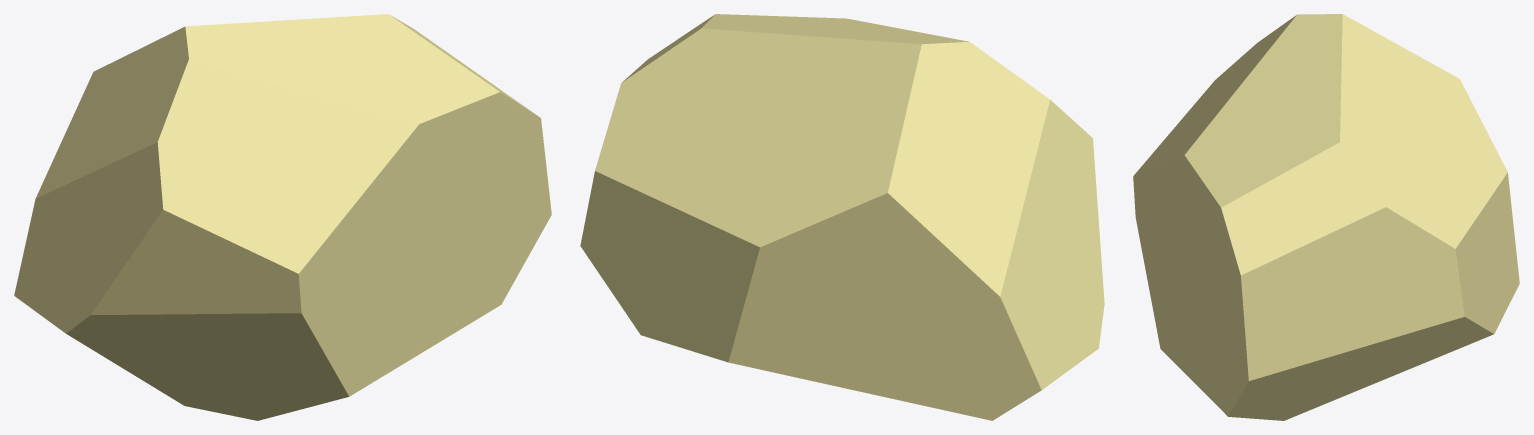
Rendered from stone_3.glb.
3 renders of one model, left to right at view 1: azimuth 30°, elevation 25°; view 2: azimuth 150°, elevation 25°; view 3: azimuth 270°, elevation 25°, orthographic. The views are drawn at different scales.
Parts seen in each view (by area): view 1: Sphere.002; view 2: Sphere.002; view 3: Sphere.002.
Boxes of the visible parts, x1,y1,x2,y2 form: Sphere.002: [14, 14, 551, 420]; Sphere.002: [580, 14, 1104, 420]; Sphere.002: [1133, 14, 1519, 420].
Bounding box in the file's own units: 2.11 × 1.58 × 1.62.
Materials: 1 (1 with a texture image).
